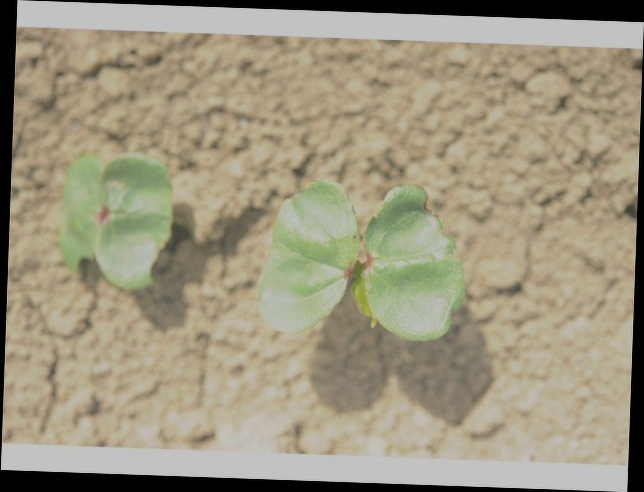cotton: (259, 178, 467, 336), (58, 150, 175, 291)
